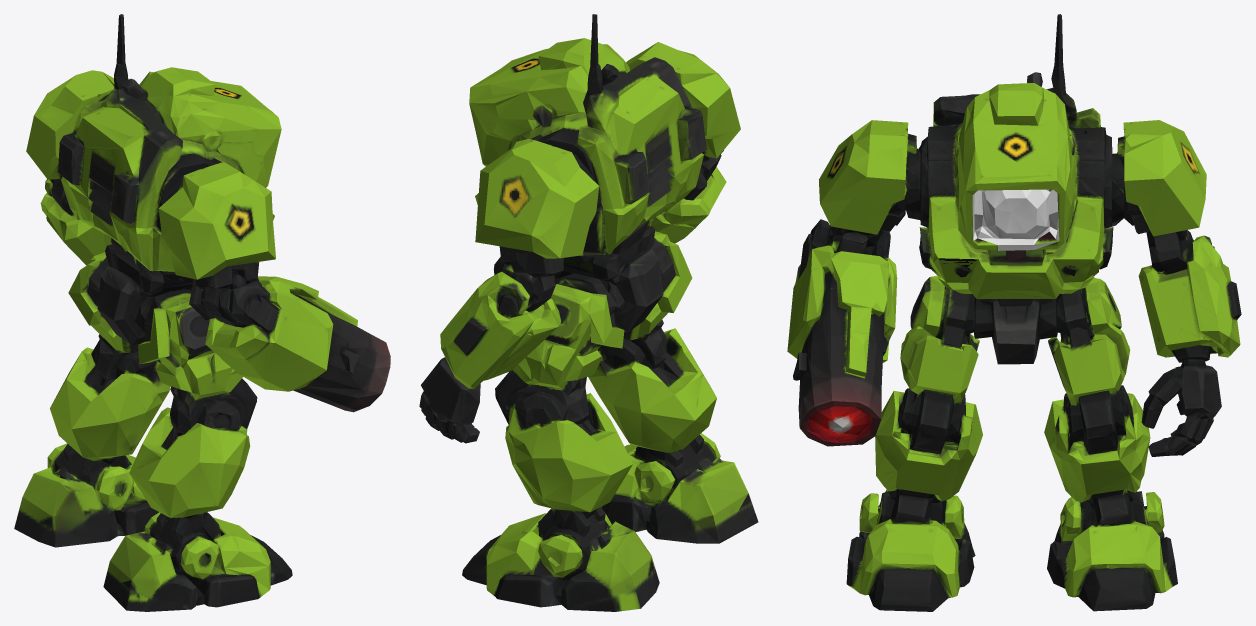
The model's file is shooter_meshy_parts.fbx.
3 views of the same model, side by side, from view 1: azimuth 30°, elevation 25°; view 2: azimuth 150°, elevation 25°; view 3: azimuth 270°, elevation 25° (orthographic). The views are drawn at different scales.
Parts seen in each view (by area): view 1: HeadTorso, ShinFoot_R, ShinFoot_L, ForearmHand_R, UpperArm_R, Thigh_R, UpperArm_L, Pelvis, Thigh_L, ForearmHand_L; view 2: HeadTorso, ShinFoot_L, ShinFoot_R, UpperArm_L, ForearmHand_L, Thigh_L, UpperArm_R, Pelvis, Thigh_R, ForearmHand_R; view 3: HeadTorso, ShinFoot_R, ShinFoot_L, ForearmHand_R, ForearmHand_L, UpperArm_R, UpperArm_L, Thigh_L, Thigh_R, Pelvis.
Boxes of the visible parts, x1,y1,x2,y2 form: HeadTorso: (58,14,281,296); ShinFoot_R: (103,391,292,611); ShinFoot_L: (14,346,170,547); ForearmHand_R: (200,277,390,412); UpperArm_R: (159,162,282,317); Thigh_R: (138,289,252,419); UpperArm_L: (26,70,114,209); Pelvis: (97,250,192,345); Thigh_L: (68,244,140,363); ForearmHand_L: (40,184,111,265); HeadTorso: (469,14,708,258); ShinFoot_L: (462,382,659,611); ShinFoot_R: (588,328,758,543); UpperArm_L: (475,138,599,302); ForearmHand_L: (419,271,561,443); Thigh_L: (501,253,624,411); UpperArm_R: (626,42,740,196); Pelvis: (554,227,663,332); Thigh_R: (622,231,692,351); ForearmHand_R: (648,167,726,243); HeadTorso: (905,14,1119,298); ShinFoot_R: (846,391,982,611); ShinFoot_L: (1044,393,1177,611); ForearmHand_R: (787,242,897,446); ForearmHand_L: (1138,243,1241,456); UpperArm_R: (804,120,905,268); UpperArm_L: (1119,120,1212,262); Thigh_L: (1047,278,1130,413); Thigh_R: (900,275,979,413); Pelvis: (978,299,1046,364).
Size of the model in its own units: 82.59 by 176 by 132.
Materials: 2 (1 with a texture image).
